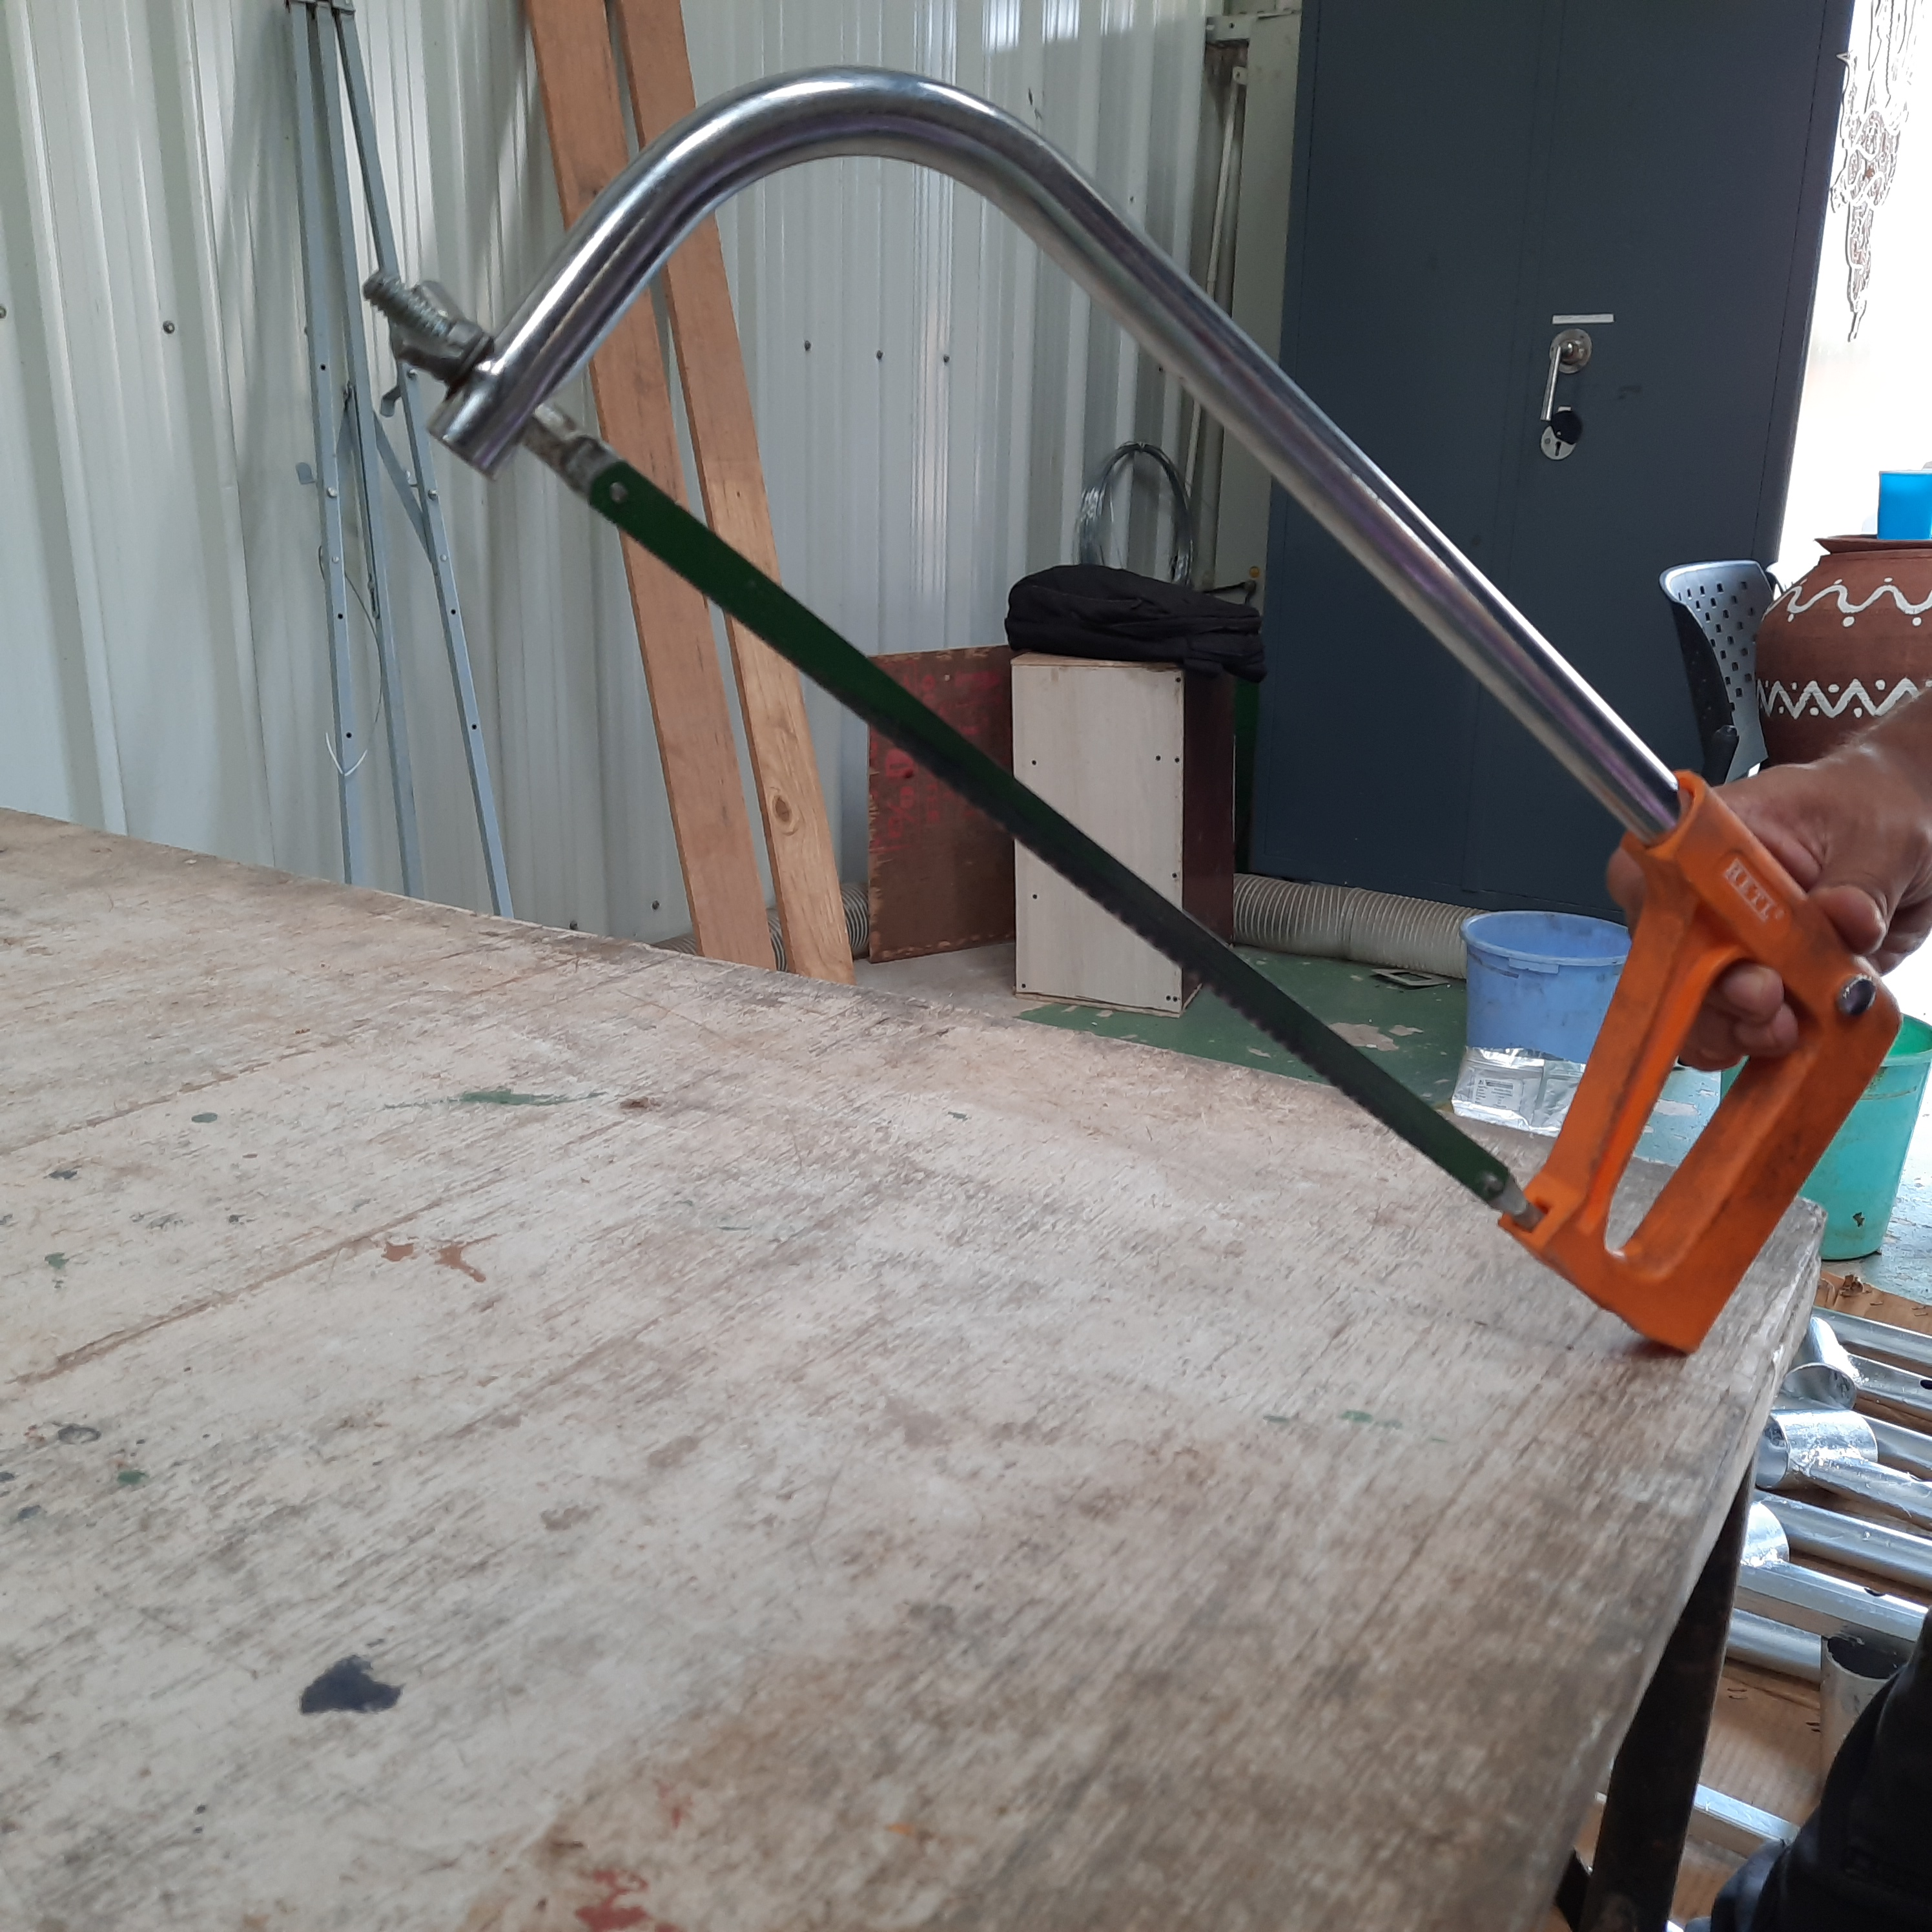Hexaframe: (352, 55, 1932, 1373)
